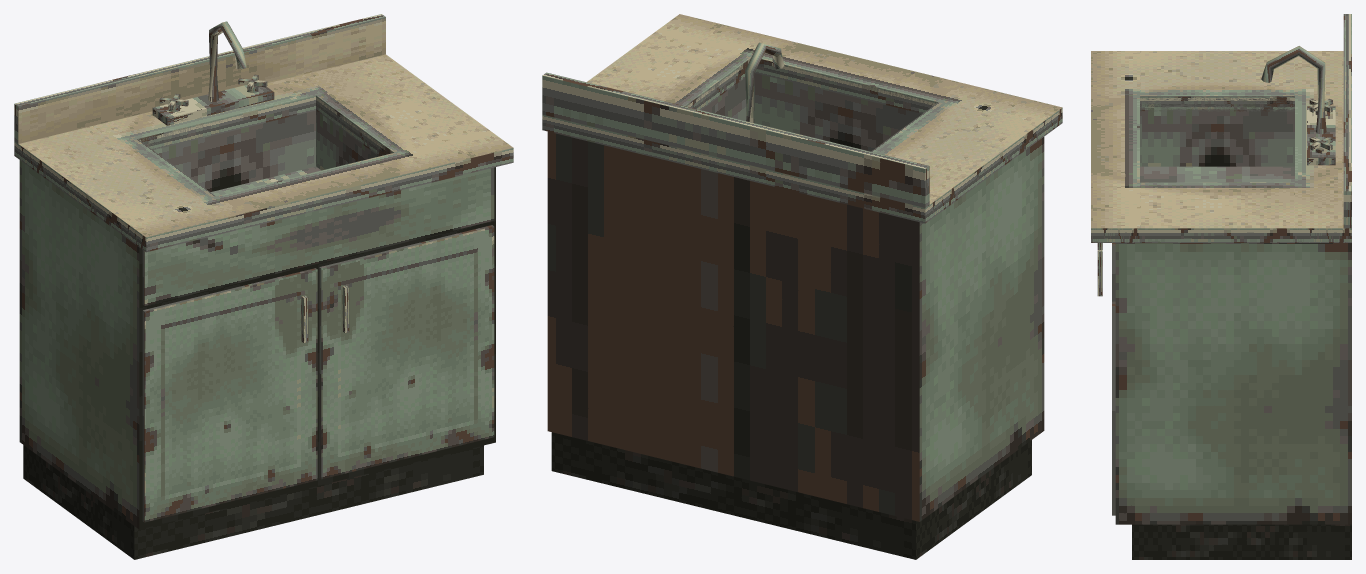
File: kitchen_sink_cabinet.glb
3 views of the same model, side by side, from view 1: azimuth 30°, elevation 25°; view 2: azimuth 150°, elevation 25°; view 3: azimuth 270°, elevation 25° (orthographic). The views are drawn at different scales.
Visible parts, largest first — view 1: kitchen_sink_cabinet; view 2: kitchen_sink_cabinet; view 3: kitchen_sink_cabinet.
Part boxes in pixels (x1,y1,x2,y2): kitchen_sink_cabinet: (14,14,513,559); kitchen_sink_cabinet: (542,14,1062,559); kitchen_sink_cabinet: (1091,14,1351,559).
Size of the model in its own units: 1.03 by 1.16 by 0.64.
1 material, 1 textured.
